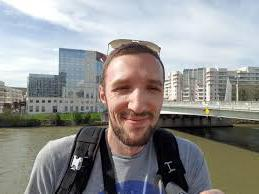face: (105, 54, 164, 146)
